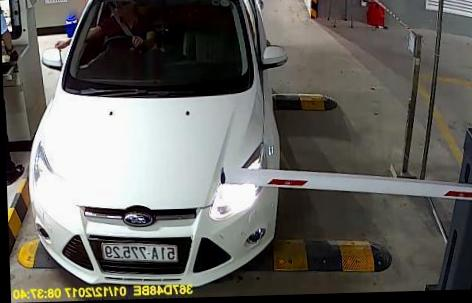License_Plate: (101, 239, 180, 264)
